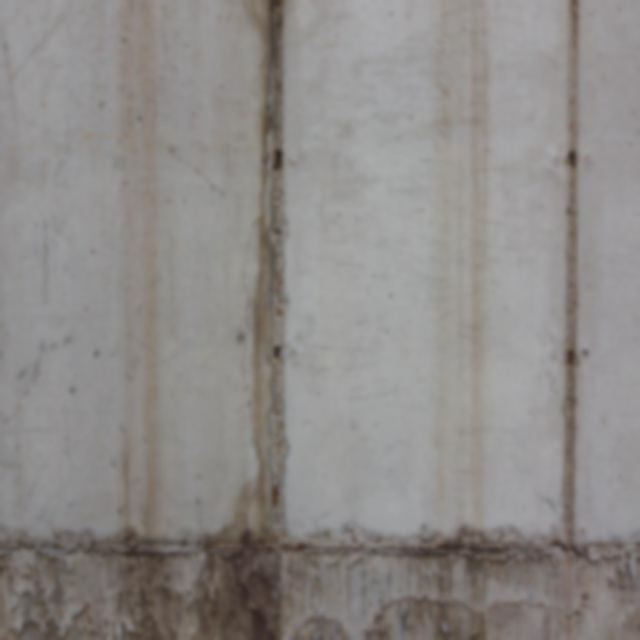SurfaceCrack: (0, 471, 638, 640), (210, 1, 328, 528)
